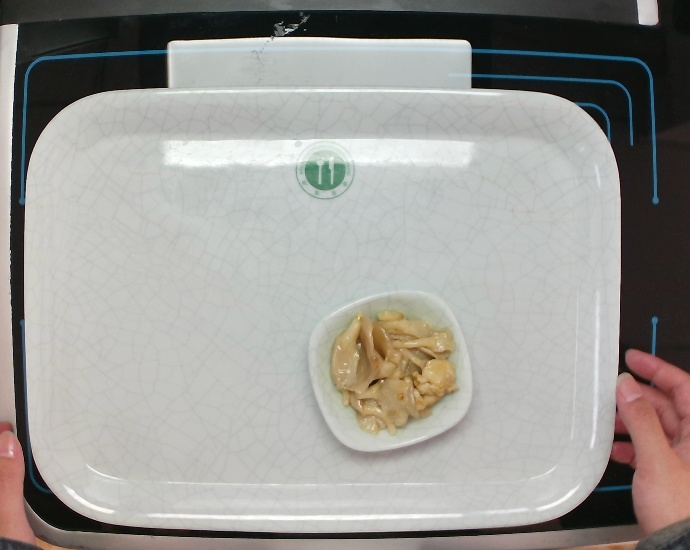JYsf-Si_Fang_Die: (306, 286, 474, 454)
